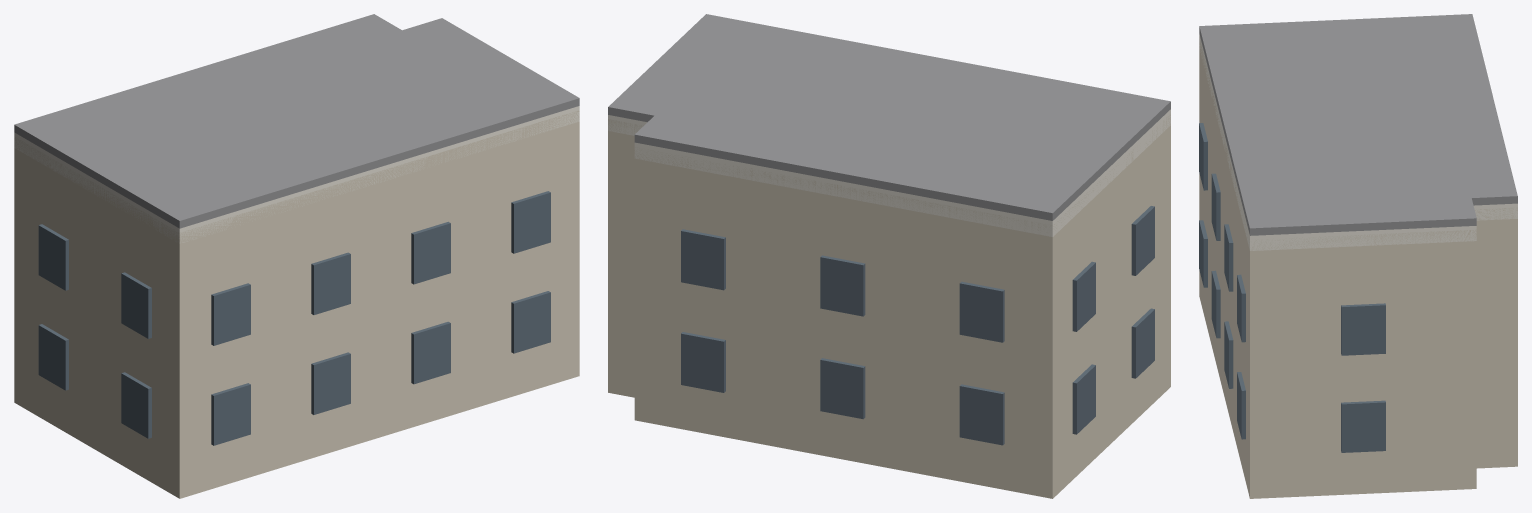
The model's file is s32_gis_248031_820658.glb.
The picture shows the model from 3 angles, left to right: view 1: azimuth 30°, elevation 25°; view 2: azimuth 150°, elevation 25°; view 3: azimuth 270°, elevation 25°; orthographic projection. The views are drawn at different scales.
Visible parts, largest first — view 1: mass, roofcap, cornice, win_1_0_0, win_1_0_1, win_1_0_2, win_1_0_3, win_1_1_1, win_1_1_3, win_1_1_0, win_1_1_2, win_0_0_1 (+3 smaller); view 2: mass, roofcap, cornice, win_5_1_2, win_5_0_1, win_5_0_2, win_5_1_1, win_5_1_0, win_5_0_0, win_0_0_0, win_0_0_1, win_0_1_0 (+1 smaller); view 3: mass, roofcap, cornice, win_2_1_0, win_2_0_0, win_1_0_1, win_1_0_2, win_1_1_2, win_1_1_1, win_1_0_0, win_1_0_3, win_1_1_0 (+1 smaller).
Boxes of the visible parts, x1,y1,x2,y2 form: mass: (14,110,579,498); roofcap: (14,14,579,228); cornice: (14,106,579,243); win_1_0_0: (211,383,250,445); win_1_0_1: (311,352,350,414); win_1_0_2: (411,321,450,384); win_1_0_3: (511,291,550,353); win_1_1_1: (311,252,350,314); win_1_1_3: (511,191,550,253); win_1_1_0: (211,283,250,345); win_1_1_2: (411,221,450,284); win_0_0_1: (121,372,151,438); mass: (608,114,1170,498); roofcap: (608,14,1170,220); cornice: (608,109,1170,236); win_5_1_2: (959,281,1004,342); win_5_0_1: (820,358,865,419); win_5_0_2: (959,384,1004,445); win_5_1_1: (820,255,865,316); win_5_1_0: (681,229,725,290); win_5_0_0: (681,332,725,392); win_0_0_0: (1072,364,1095,434); win_0_0_1: (1131,308,1154,378); win_0_1_0: (1072,261,1095,331); mass: (1199,39,1517,498); roofcap: (1199,14,1517,235); cornice: (1199,34,1517,250); win_2_1_0: (1341,303,1385,355); win_2_0_0: (1341,400,1385,452); win_1_0_1: (1211,270,1220,338); win_1_0_2: (1224,321,1233,388); win_1_1_2: (1224,224,1233,291); win_1_1_1: (1211,173,1220,240); win_1_0_0: (1199,220,1207,287); win_1_0_3: (1237,372,1245,439); win_1_1_0: (1199,123,1207,190).
Bounding box in the file's own units: 14.19 × 8.35 × 8.91.
